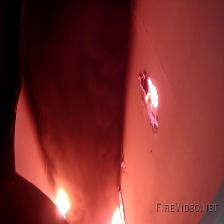fire: (41, 153, 152, 224), (137, 69, 173, 133)
